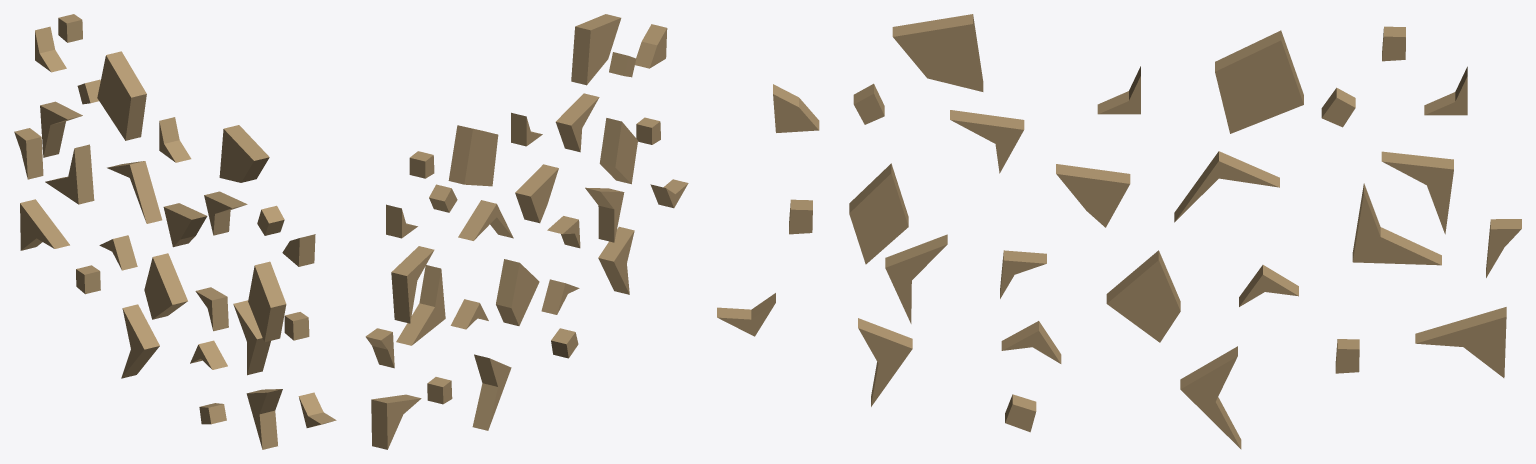
Rendered from WallDeco.glb.
The picture shows the model from 3 angles, left to right: view 1: azimuth 30°, elevation 25°; view 2: azimuth 150°, elevation 25°; view 3: azimuth 270°, elevation 25°; orthographic projection. The views are drawn at different scales.
Visible parts, largest first — view 1: Decoration; view 2: Decoration; view 3: Decoration.
Boxes of the visible parts, x1=… form: Decoration: x1=14, y1=14, x2=336, y2=449; Decoration: x1=365, y1=14, x2=688, y2=449; Decoration: x1=717, y1=14, x2=1521, y2=449.
Size of the model in its own units: 0.2013 by 3.99 by 6.84.
